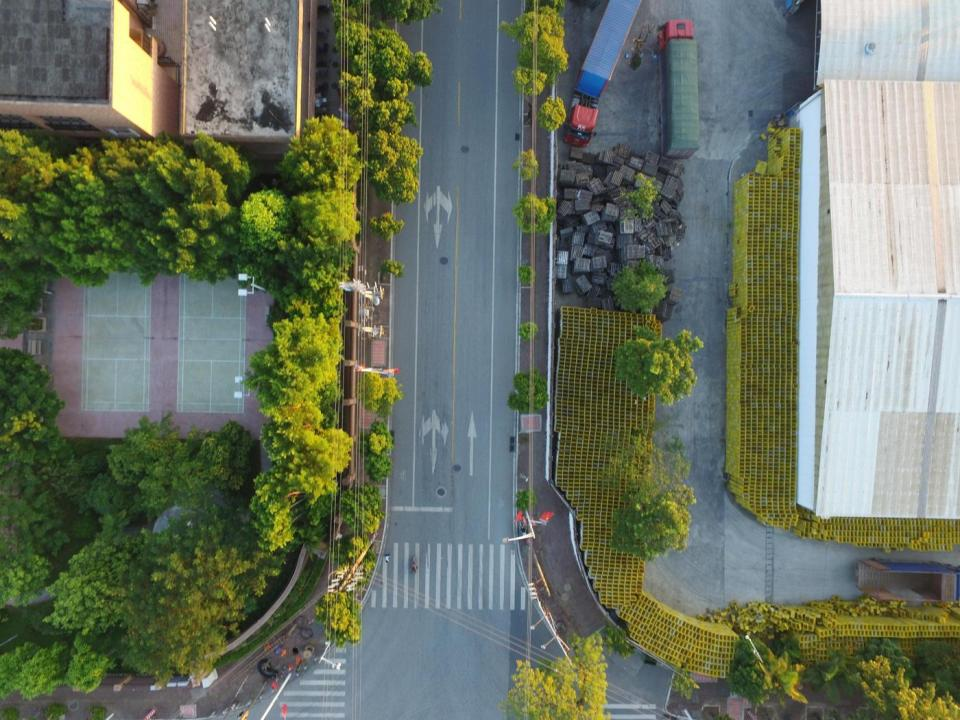truck: (561, 0, 650, 149), (656, 18, 702, 159)
